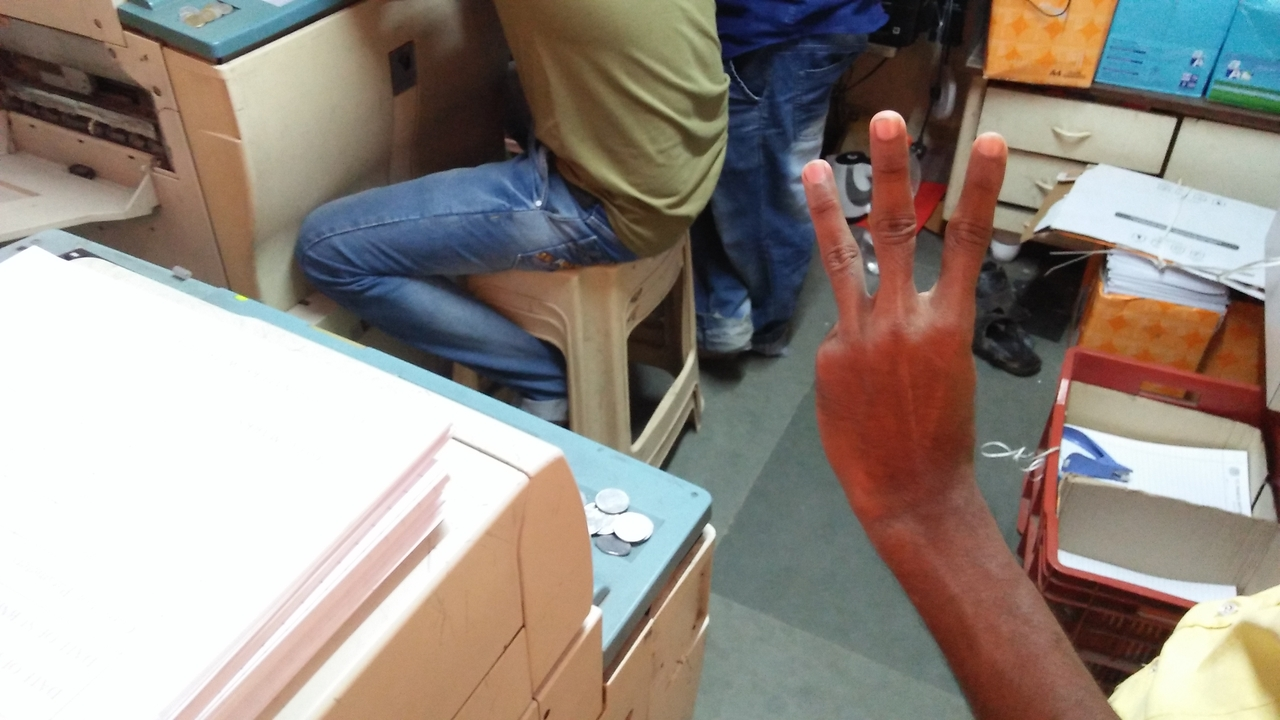fingertip: (866, 100, 918, 152), (794, 150, 844, 196), (966, 124, 1020, 166)
